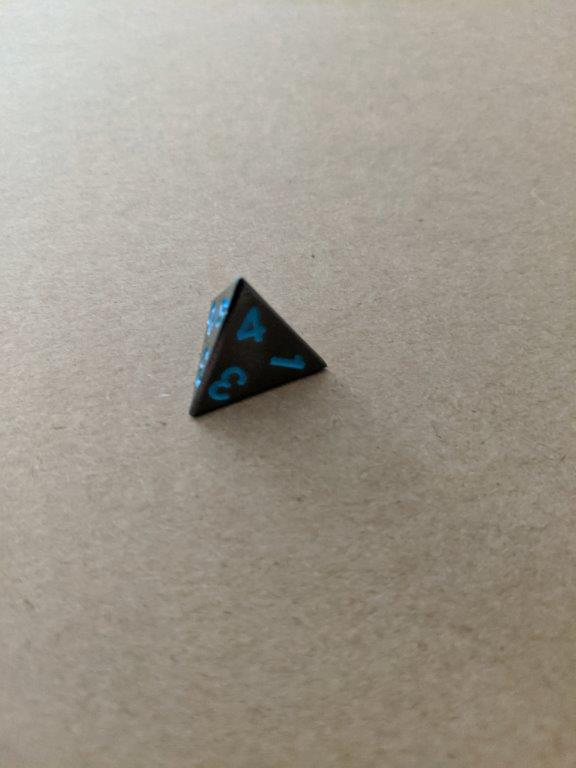d4-4: (187, 277, 329, 417)
